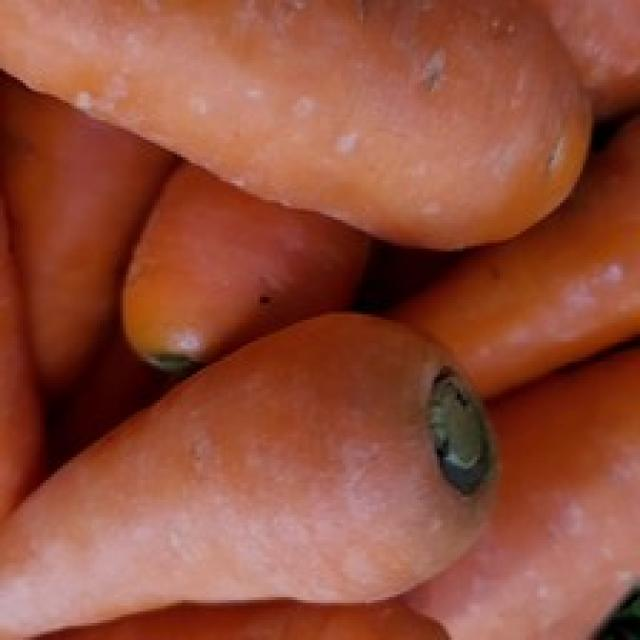Fresh_Carrot: (3, 319, 498, 640), (2, 0, 605, 257), (400, 118, 640, 412), (411, 344, 640, 640), (0, 67, 188, 401), (134, 176, 371, 372)
